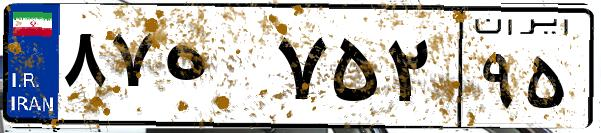2: (385, 28, 445, 110)
5: (330, 28, 385, 110), (525, 38, 570, 115)
7: (270, 28, 330, 110), (110, 28, 158, 98)
8: (57, 26, 110, 100)
9: (475, 38, 525, 113)
ه: (158, 20, 270, 120)
